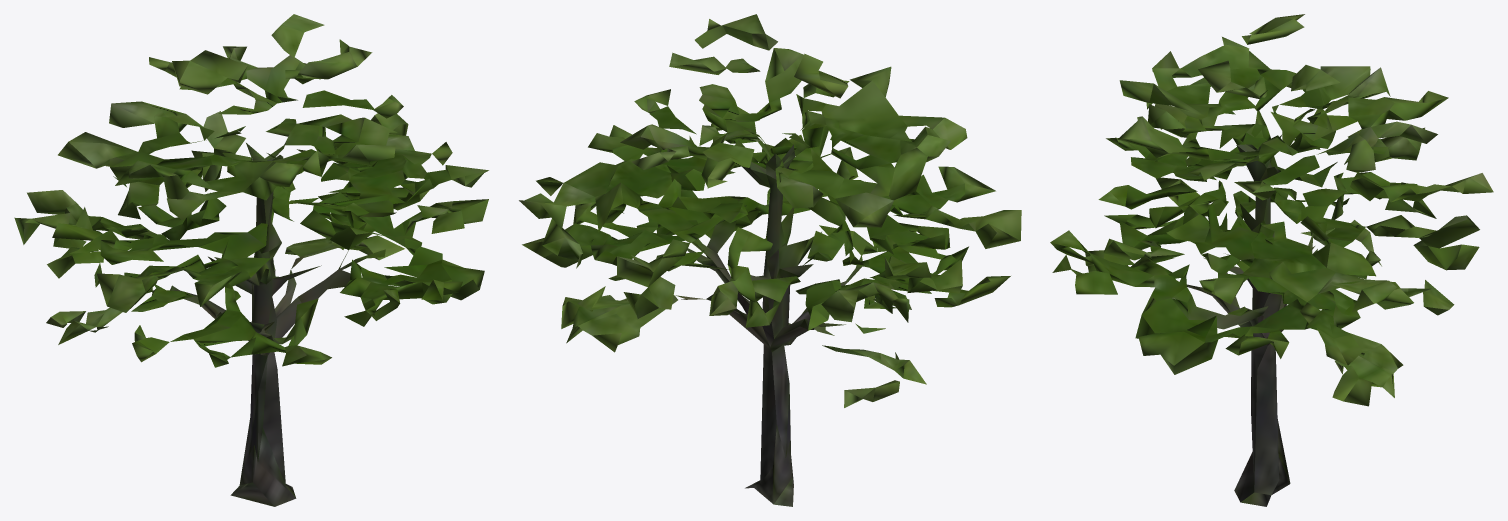
Rendered from pohon_lod2.glb.
3 renders of one model, left to right at view 1: azimuth 30°, elevation 25°; view 2: azimuth 150°, elevation 25°; view 3: azimuth 270°, elevation 25°, orthographic.
Visible parts, largest first — view 1: tripo_node_84ea65ce-ced5-44dc-ac22-840a167c3c59; view 2: tripo_node_84ea65ce-ced5-44dc-ac22-840a167c3c59; view 3: tripo_node_84ea65ce-ced5-44dc-ac22-840a167c3c59.
Part boxes in pixels (x1,y1,x2,y2): tripo_node_84ea65ce-ced5-44dc-ac22-840a167c3c59: (14, 14, 488, 506); tripo_node_84ea65ce-ced5-44dc-ac22-840a167c3c59: (519, 14, 1021, 506); tripo_node_84ea65ce-ced5-44dc-ac22-840a167c3c59: (1050, 14, 1493, 506).
Bounding box in the file's own units: 0.9675 × 0.983 × 0.8819.
1 material, 1 textured.
